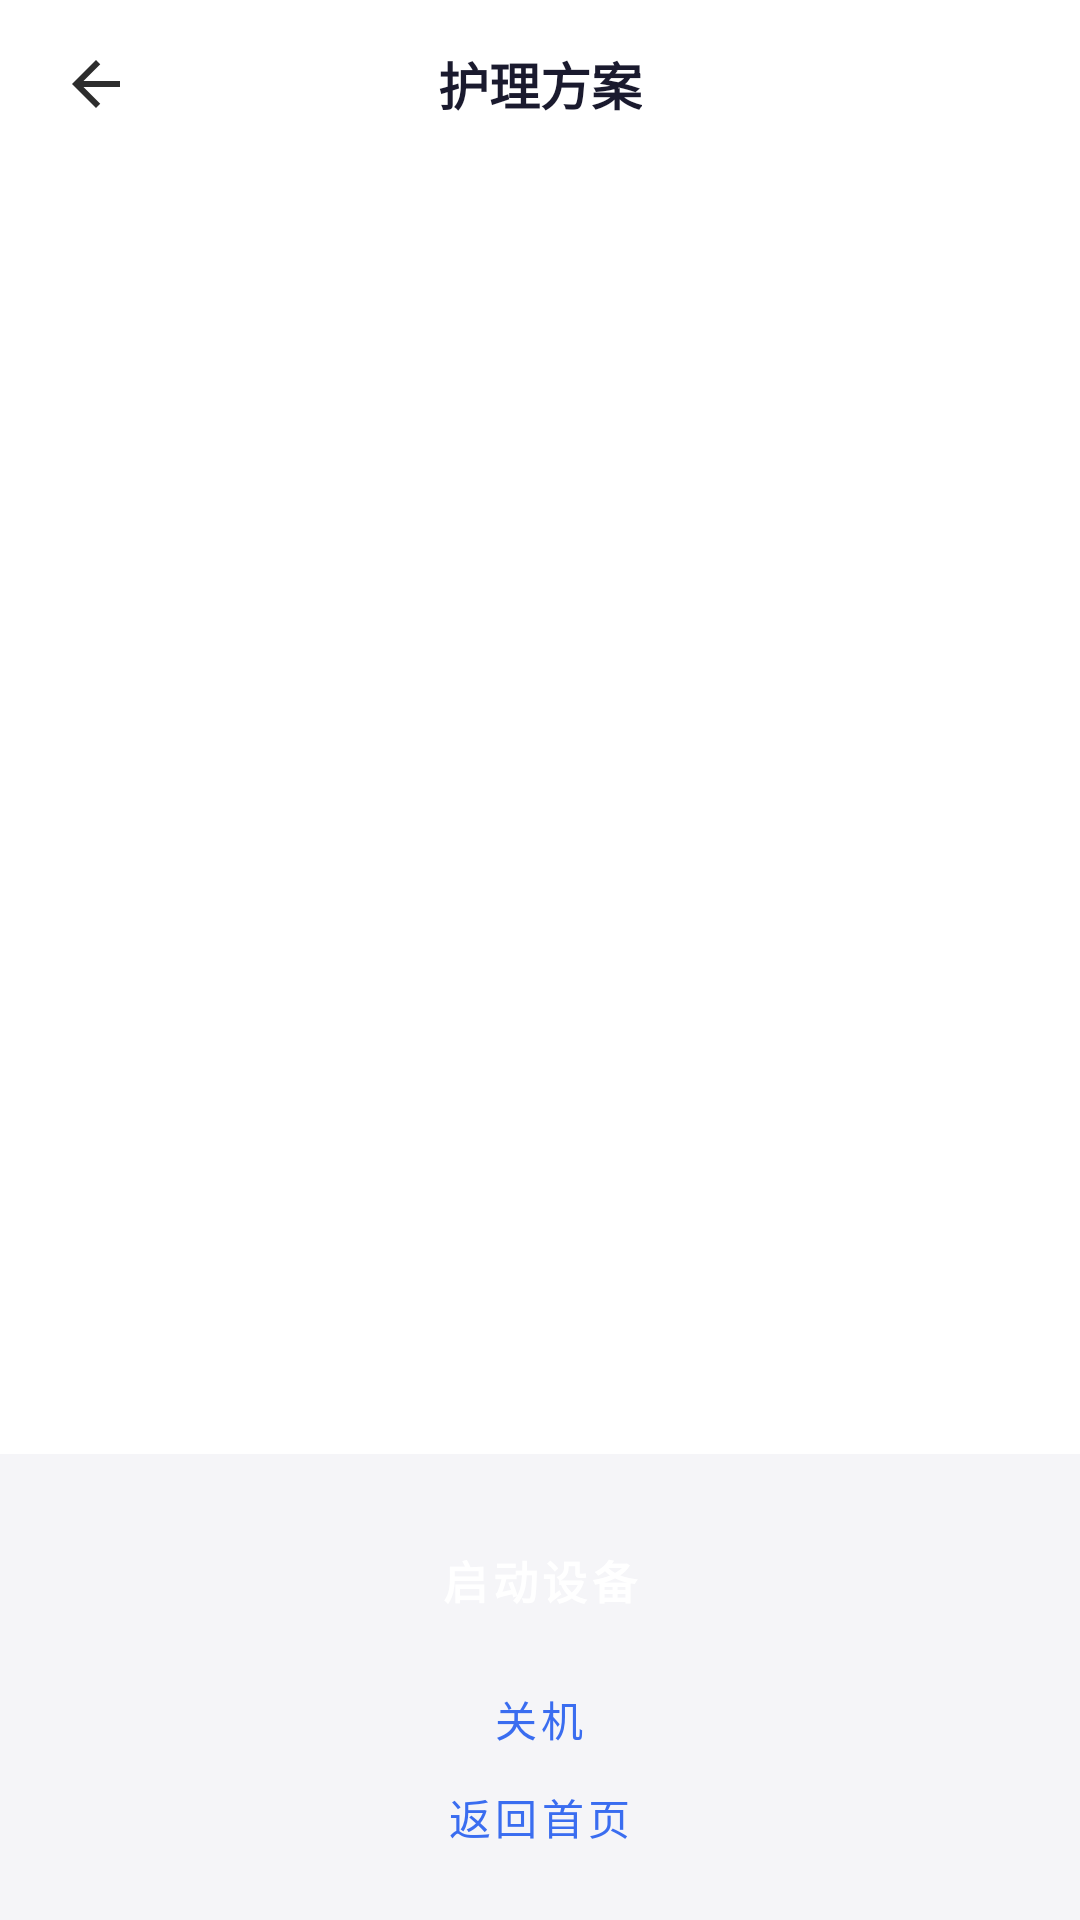

Screen size 1080×1920. Icon name, then its center in pixels as (x,y):
返回: (96,84)
